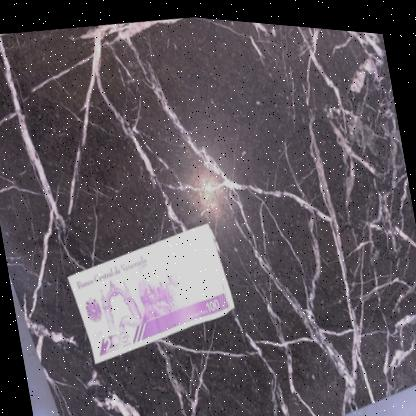vef_back: (58, 205, 244, 376)
